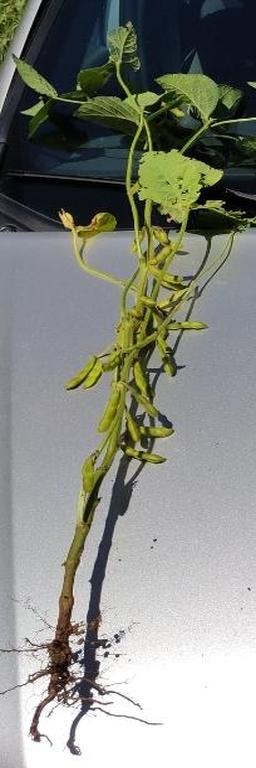pod: (90, 390, 120, 434), (123, 444, 167, 464), (81, 452, 98, 492), (134, 361, 152, 396), (138, 423, 175, 437), (168, 319, 210, 331)
soy: (7, 68, 247, 743)
